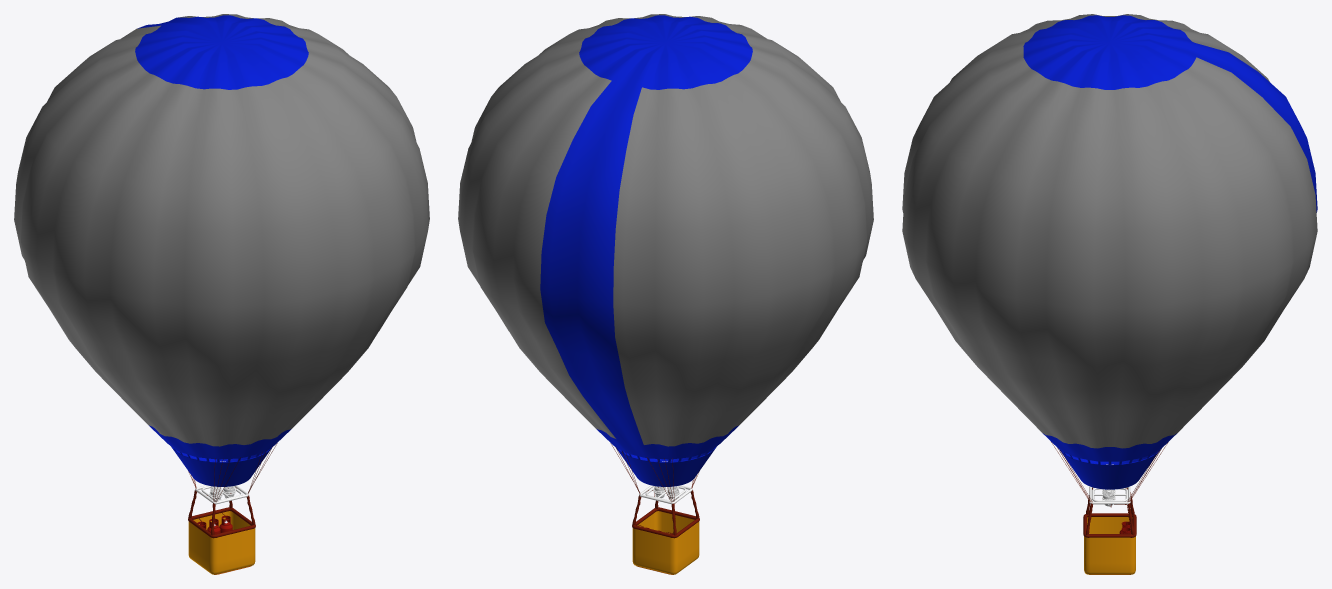
3 renders of one model, left to right at view 1: azimuth 30°, elevation 25°; view 2: azimuth 150°, elevation 25°; view 3: azimuth 270°, elevation 25°, orthographic.
Parts seen in each view (by area): view 1: Sphere001, Box001, Air_balloon, Shape002; view 2: Sphere001, Box001, Air_balloon, Shape002; view 3: Sphere001, Box001, Air_balloon, Shape002.
Part boxes in pixels (left/top/right/bottom): Sphere001: left=14, top=14, right=429, bottom=459; Box001: left=188, top=511, right=255, bottom=574; Air_balloon: left=171, top=446, right=271, bottom=574; Shape002: left=188, top=507, right=255, bottom=538; Sphere001: left=458, top=14, right=873, bottom=459; Box001: left=632, top=511, right=699, bottom=574; Air_balloon: left=616, top=446, right=716, bottom=574; Shape002: left=632, top=507, right=699, bottom=538; Sphere001: left=902, top=14, right=1317, bottom=461; Box001: left=1084, top=517, right=1135, bottom=574; Air_balloon: left=1060, top=450, right=1159, bottom=574; Shape002: left=1083, top=513, right=1136, bottom=537.
Bounding box in the file's own units: 31.88 × 44.66 × 31.88.
